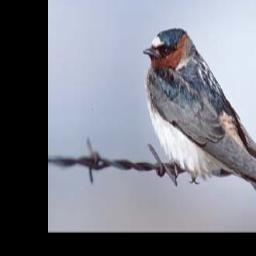Swallow: (144, 27, 256, 206)
